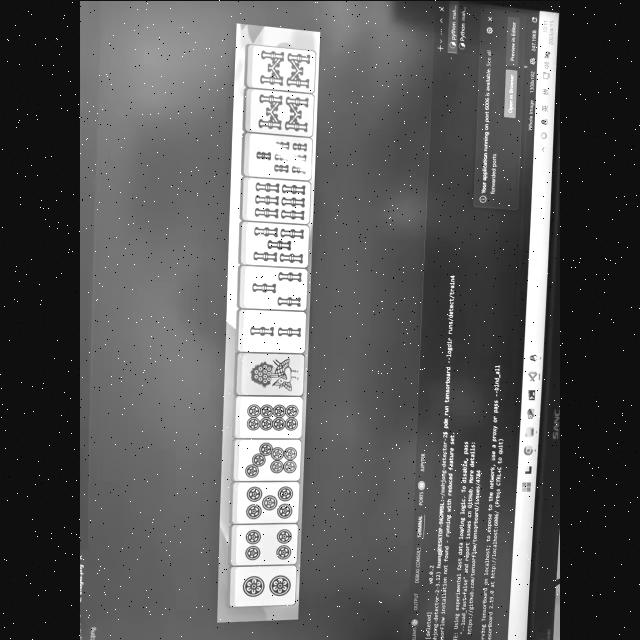1s: (235, 353, 307, 395)
2p: (230, 564, 296, 606)
2s: (236, 310, 308, 352)
3s: (238, 266, 308, 308)
4p: (229, 522, 299, 566)
5p: (232, 482, 300, 522)
5s: (239, 224, 311, 268)
6s: (238, 180, 312, 220)
7p: (230, 438, 304, 482)
7s: (240, 136, 314, 178)
8p: (232, 395, 306, 439)
8s: (243, 47, 317, 89), (242, 91, 314, 133)
